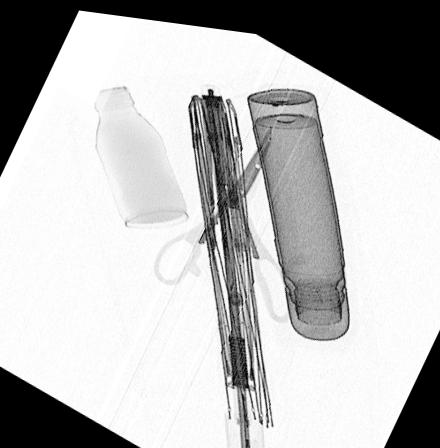Scissors: (150, 91, 303, 316)
